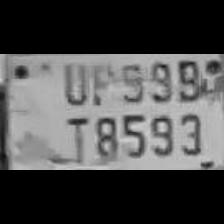3: (174, 108, 204, 156)
5: (114, 57, 146, 105), (118, 110, 146, 158)
8: (90, 110, 118, 162)
9: (172, 54, 202, 100), (144, 56, 172, 104), (146, 110, 174, 158)
P: (86, 59, 114, 107)
T: (58, 113, 90, 166)
U: (58, 57, 90, 106)
